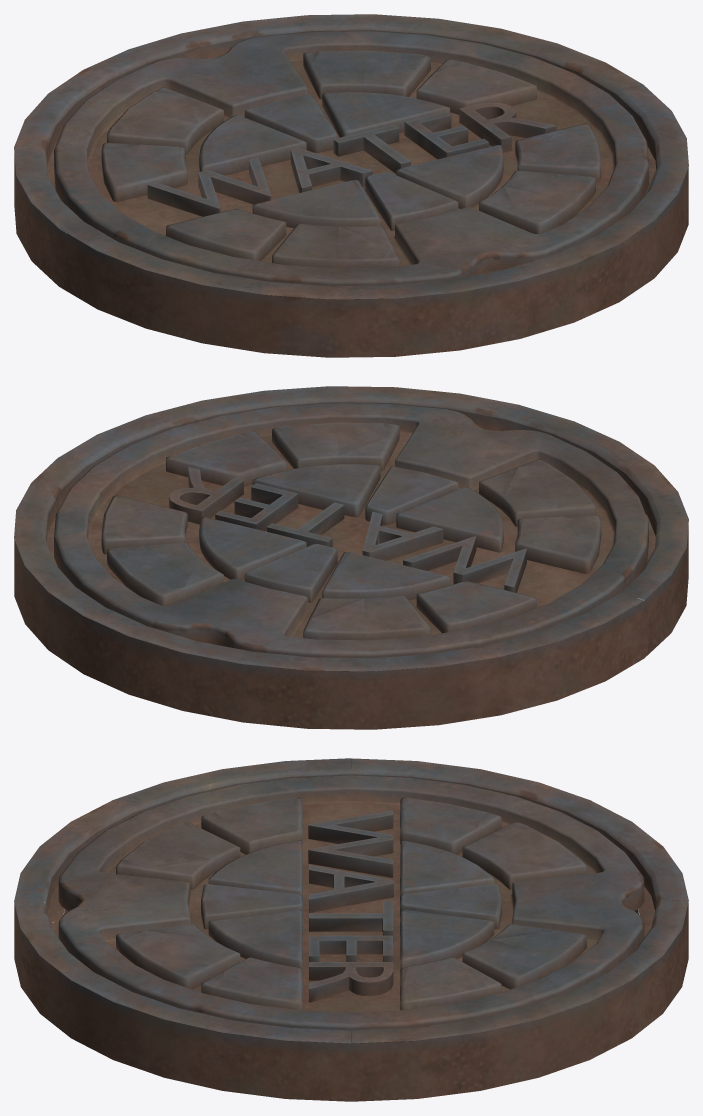
Rendered from water_manhole_cover.glb.
3 views of the same model, one above another, from view 1: azimuth 30°, elevation 25°; view 2: azimuth 150°, elevation 25°; view 3: azimuth 270°, elevation 25° (orthographic).
Visible parts, largest first — view 1: water_manhole_cover, water_manhole_cover_frame; view 2: water_manhole_cover, water_manhole_cover_frame; view 3: water_manhole_cover, water_manhole_cover_frame.
Part boxes in pixels (bbox=[...]): water_manhole_cover: bbox=[54, 31, 648, 286]; water_manhole_cover_frame: bbox=[14, 14, 688, 357]; water_manhole_cover: bbox=[54, 403, 648, 658]; water_manhole_cover_frame: bbox=[14, 386, 688, 729]; water_manhole_cover: bbox=[58, 775, 644, 1030]; water_manhole_cover_frame: bbox=[14, 758, 688, 1101].
Bounding box in the file's own units: 0.6916 × 0.0676 × 0.6915.
Materials: 1 (1 with a texture image).
